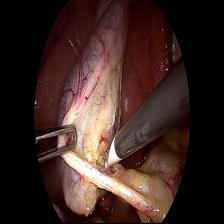Grasper: (35, 122, 80, 165)
Hook: (103, 135, 125, 176)
